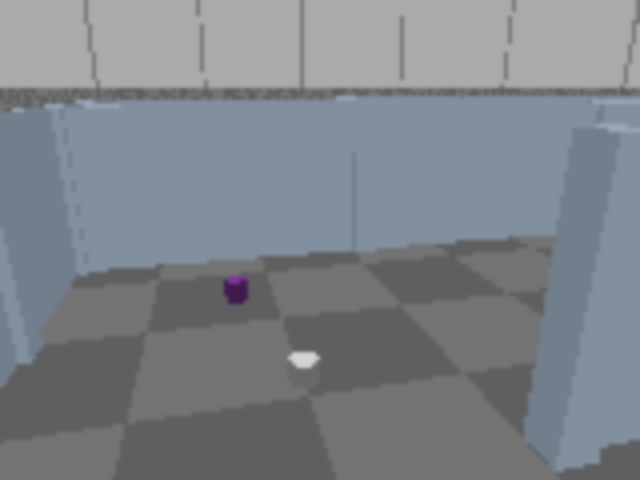puck: (291, 351, 318, 388), (225, 276, 246, 303)
